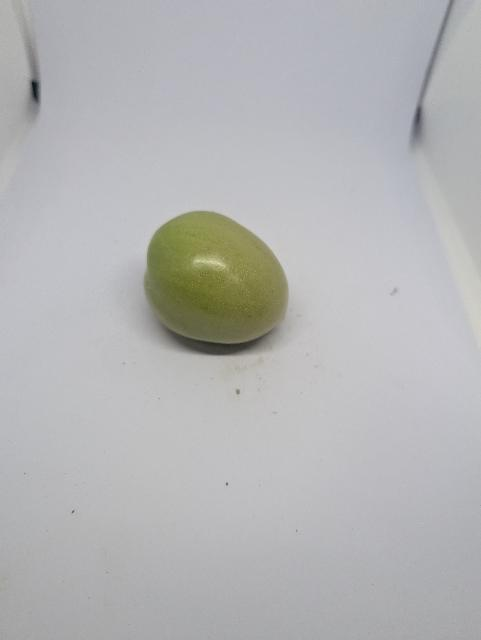green: (119, 193, 305, 365)
